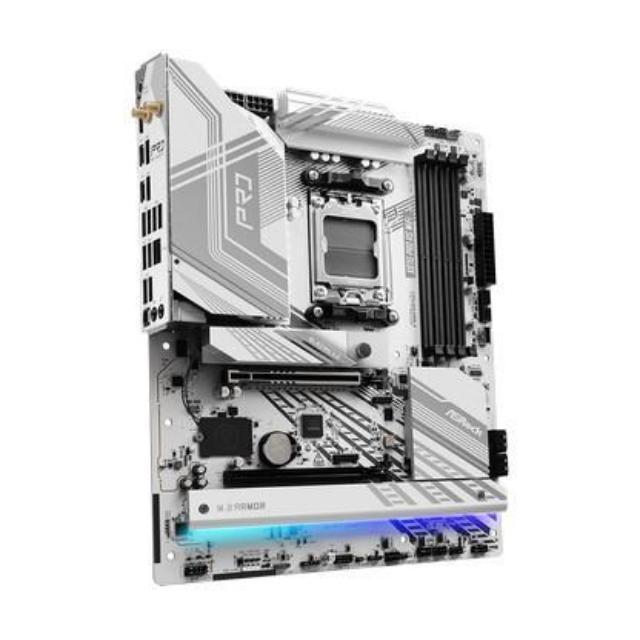Mainboard: (113, 48, 516, 592)
